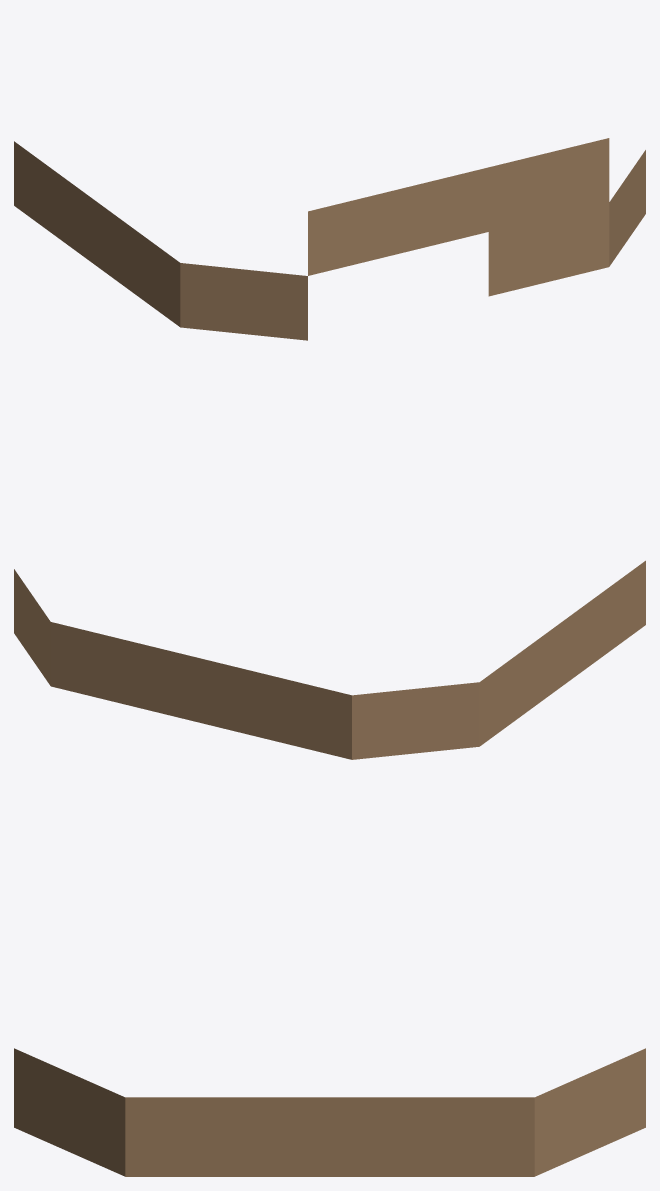
Rendered from 1382-Buildings-shell-pieces-facade-bay-wall-round-an-opening-reveals-sill-head-emitBa.glb.
The picture shows the model from 3 angles, top to bottom: view 1: azimuth 30°, elevation 25°; view 2: azimuth 150°, elevation 25°; view 3: azimuth 270°, elevation 25°; orthographic projection. The views are drawn at different scales.
Visible parts, largest first — view 1: emitBay; view 2: emitBay; view 3: emitBay.
Boxes of the visible parts, x1,y1,x2,y2 form: emitBay: (14, 138, 645, 340); emitBay: (14, 560, 645, 759); emitBay: (14, 1048, 645, 1176).
Size of the model in its own units: 23 by 6.1 by 22.
